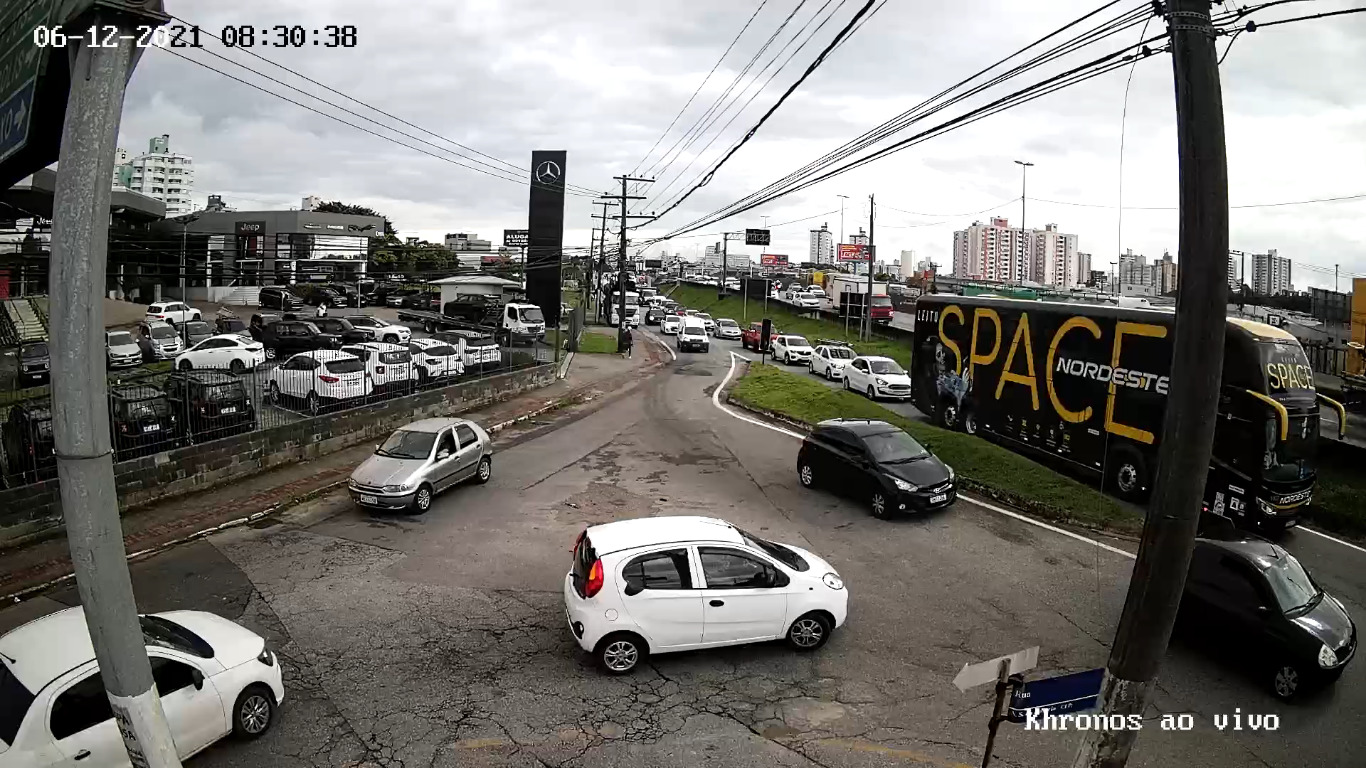car: (1, 604, 287, 766), (562, 514, 848, 675), (795, 415, 959, 521), (348, 416, 493, 516)
